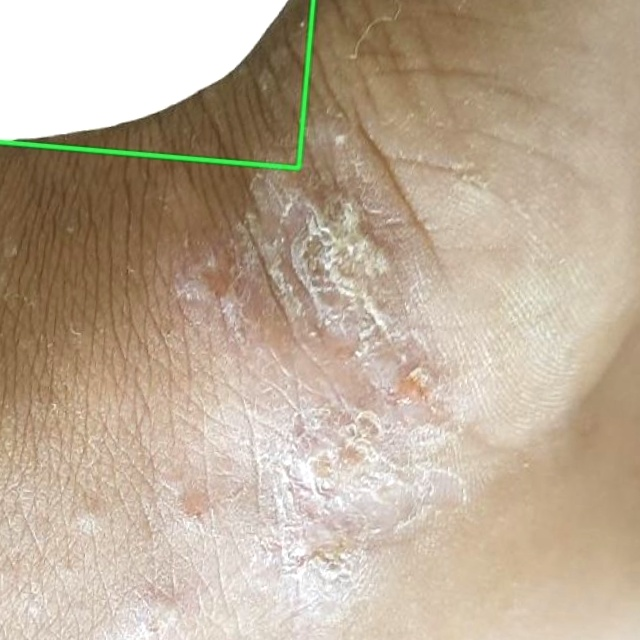Scabies: (0, 0, 313, 168)
